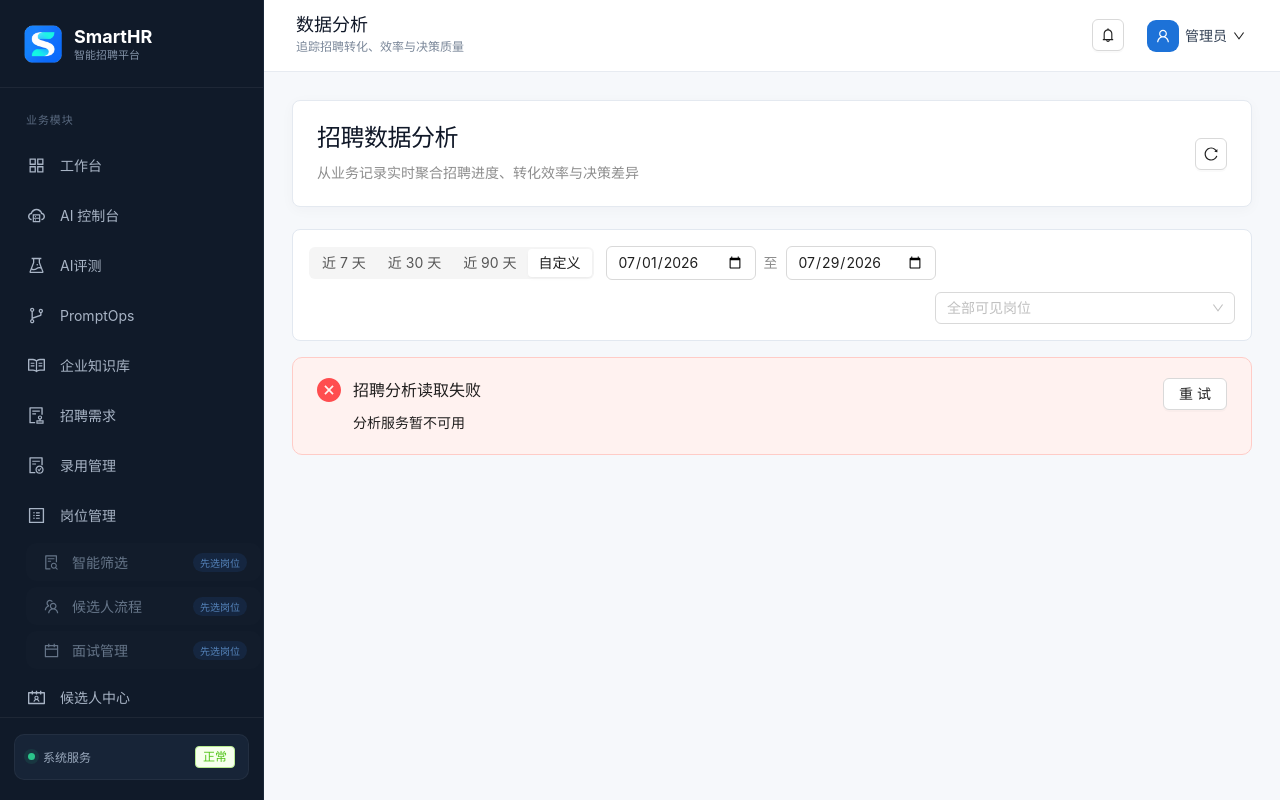
招聘数据分析流程 › 显示零分母和接口错误，不用虚构百分比
Check: the text "招聘分析读取失败" is shown, box [353,380,481,400]
Check: the text "分析服务暂不可用" is shown, box [353,414,465,430]
Click the button "重 试".
click(1195, 394)  # box [1163,378,1227,410]
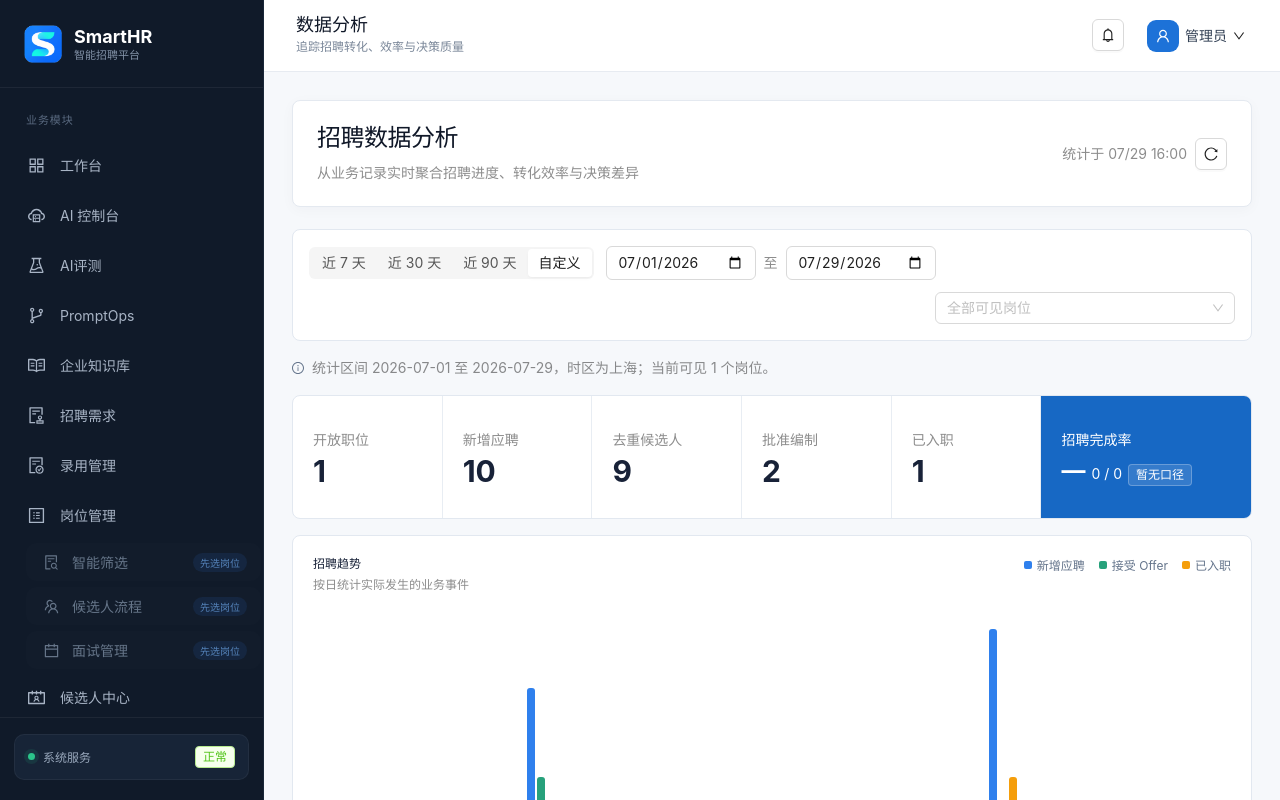
Check: the text "暂无口径" is shown, box [1128,464,1192,486]
Check: the text "0 / 0" is shown, box [1091,463,1122,485]
